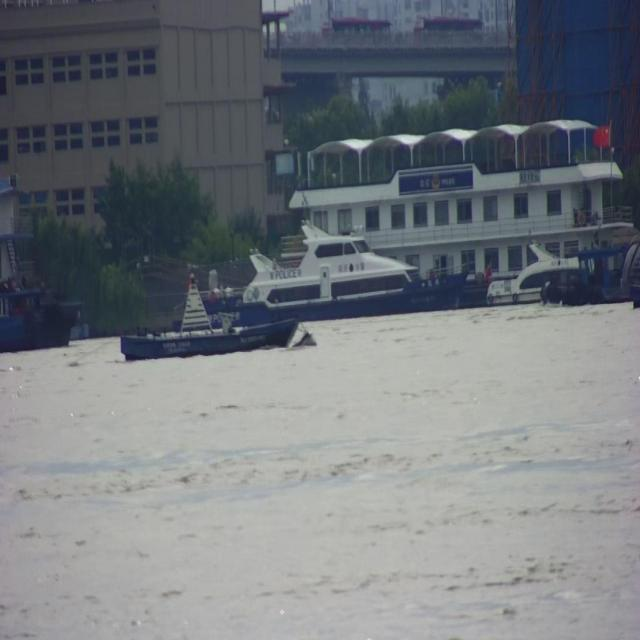CIV_Ship: (120, 272, 301, 359), (485, 244, 587, 305)
